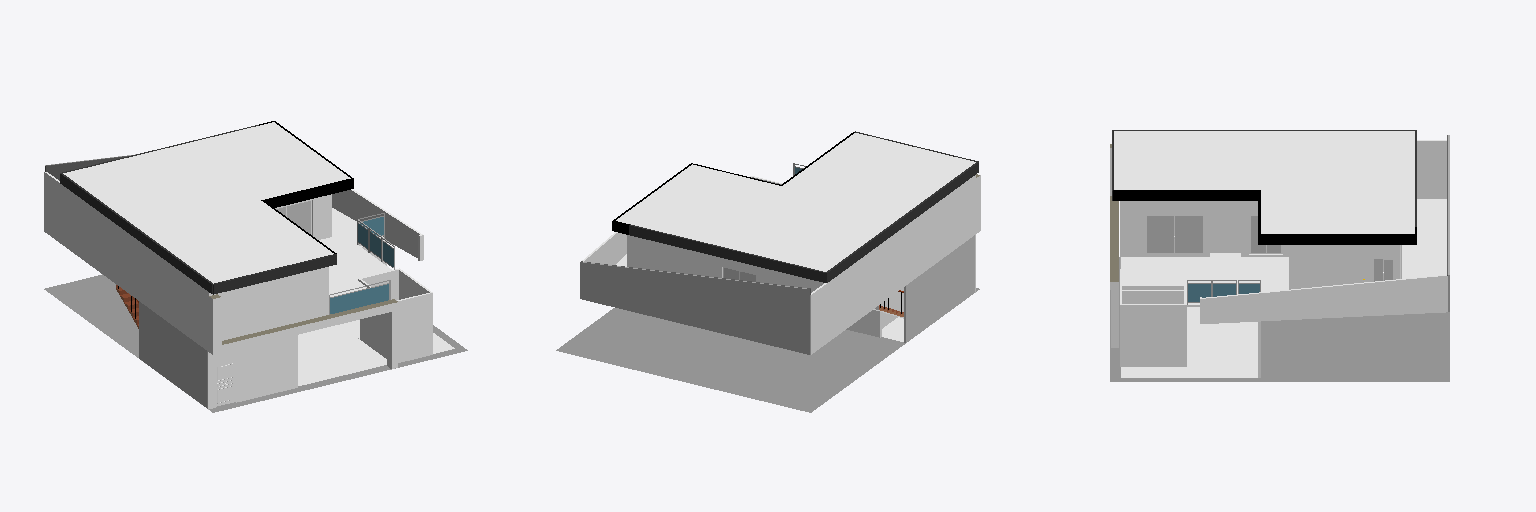
Rendered from layout3.obj.
3 views of the same model, side by side, from view 1: azimuth 30°, elevation 25°; view 2: azimuth 150°, elevation 25°; view 3: azimuth 270°, elevation 25° (orthographic).
Parts seen in each view (by area): view 1: room_69_384, wall_40_239, wall_47_281, ground_1, room_64_376, wall_5_29, wall_11_65, wall_13_77, wall_3_16, room_68_382, wall_26_155, wall_16_95 (+14 smaller); view 2: room_69_384, ground_1, wall_1_5, wall_40_239, wall_5_29, wall_42_250, wall_15_89, wall_26_155, wall_16_95, wall_39_233, wall_41_244, wall_25_149 (+3 smaller); view 3: room_69_384, ground_1, wall_3_17, wall_20_119, room_68_382, wall_31_184, room_80_405, room_66_380, wall_27_161, room_64_376, wall_39_232, wall_53_316 (+7 smaller).
Boxes of the visible parts, box(x1,y1,x2,y2) form: room_69_384: box(63, 122, 350, 283); wall_40_239: box(68, 189, 159, 315); wall_47_281: box(209, 267, 328, 340); ground_1: box(44, 274, 467, 412); room_64_376: box(298, 325, 386, 385); wall_5_29: box(139, 301, 194, 397); wall_11_65: box(242, 335, 297, 400); wall_13_77: box(398, 297, 431, 362); wall_3_16: box(332, 190, 419, 257); room_68_382: box(329, 245, 391, 296); wall_26_155: box(160, 257, 191, 336); wall_16_95: box(60, 174, 212, 293); room_69_384: box(616, 133, 975, 271); ground_1: box(556, 288, 979, 412); wall_1_5: box(580, 262, 809, 354); wall_40_239: box(835, 211, 926, 336); wall_5_29: box(905, 246, 960, 342); wall_42_250: box(627, 235, 702, 275); wall_15_89: box(629, 225, 826, 282); wall_26_155: box(927, 189, 955, 269); wall_16_95: box(827, 163, 978, 282); wall_39_233: box(810, 278, 834, 354); wall_41_244: box(703, 253, 823, 292); wall_25_149: box(956, 175, 975, 248); room_69_384: box(1114, 131, 1414, 233); ground_1: box(1110, 257, 1449, 381); wall_3_17: box(1200, 276, 1447, 323); wall_20_119: box(1120, 310, 1186, 366); room_68_382: box(1120, 257, 1260, 306); wall_31_184: box(1289, 245, 1399, 289); room_80_405: box(1121, 348, 1257, 377); room_66_380: box(1402, 199, 1446, 278); wall_27_161: box(1121, 201, 1209, 256); room_64_376: box(1187, 307, 1257, 347); wall_39_232: box(1417, 141, 1446, 198); wall_53_316: box(1210, 201, 1240, 252).
Bounding box in the file's own units: 1391 × 664 × 1600.